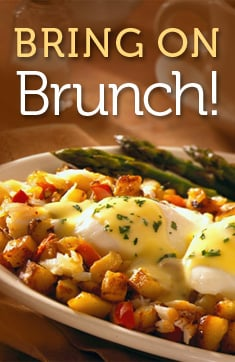sushi: (0, 143, 234, 358)
